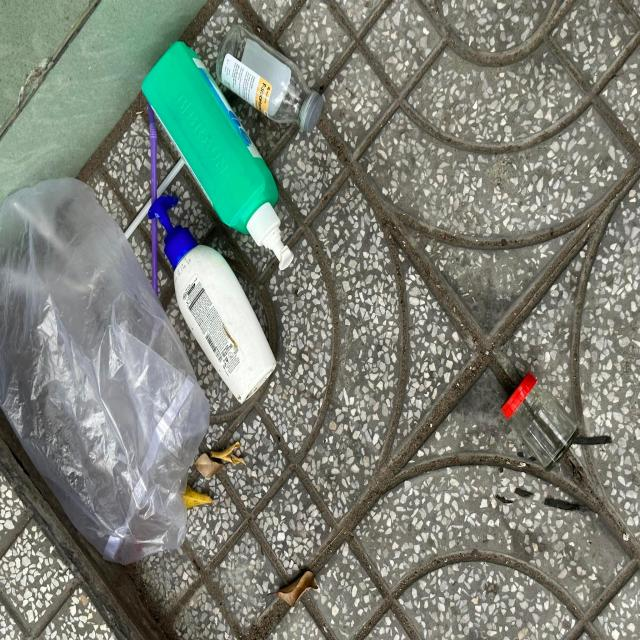bag: (0, 179, 210, 566)
bottle: (142, 42, 293, 269), (149, 192, 277, 406), (218, 25, 324, 132)
drinking straw: (126, 155, 185, 241), (141, 96, 158, 295)
plastic holder: (500, 371, 580, 473)
